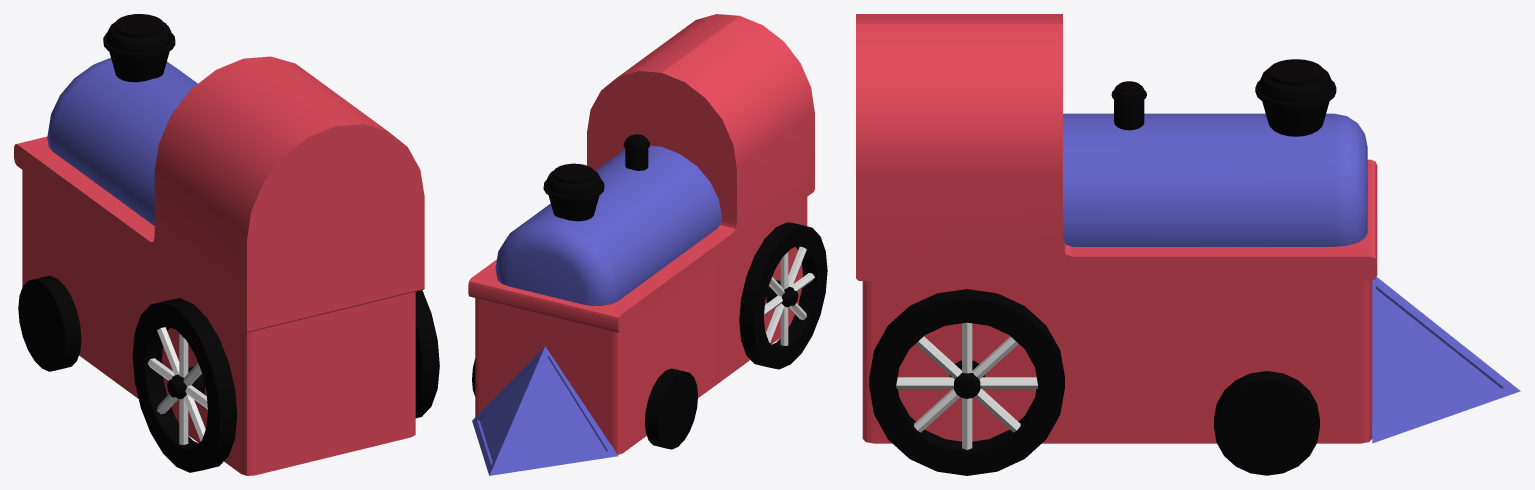
Rendered from train.fbx.
The picture shows the model from 3 angles, left to right: view 1: azimuth 30°, elevation 25°; view 2: azimuth 150°, elevation 25°; view 3: azimuth 270°, elevation 25°; orthographic projection. The views are drawn at different scales.
Parts seen in each view (by area): view 1: polySurface16, polySurface14, polySurface13, polySurface2, polySurface1, polySurface12, polySurface17, polySurface4, polySurface5; view 2: polySurface16, polySurface14, polySurface13, polySurface29, polySurface2, polySurface1, polySurface12, polySurface15, polySurface4; view 3: polySurface16, polySurface14, polySurface13, polySurface17, polySurface29, polySurface30, polySurface12, polySurface15, polySurface21, polySurface25, polySurface19.
Part boxes in pixels (bbox=[...]): polySurface16: bbox=[14, 56, 424, 332]; polySurface14: bbox=[22, 170, 415, 475]; polySurface13: bbox=[47, 58, 197, 225]; polySurface2: bbox=[132, 298, 237, 472]; polySurface1: bbox=[18, 275, 81, 371]; polySurface12: bbox=[103, 14, 175, 82]; polySurface17: bbox=[415, 290, 439, 418]; polySurface4: bbox=[167, 366, 204, 398]; polySurface5: bbox=[157, 327, 179, 375]; polySurface16: bbox=[468, 14, 814, 332]; polySurface14: bbox=[475, 197, 807, 454]; polySurface13: bbox=[495, 145, 721, 305]; polySurface29: bbox=[472, 346, 618, 475]; polySurface2: bbox=[739, 222, 827, 369]; polySurface1: bbox=[645, 368, 697, 449]; polySurface12: bbox=[543, 163, 604, 221]; polySurface15: bbox=[623, 134, 649, 170]; polySurface4: bbox=[766, 280, 798, 307]; polySurface16: bbox=[856, 14, 1377, 280]; polySurface14: bbox=[862, 280, 1372, 443]; polySurface13: bbox=[1063, 113, 1367, 246]; polySurface17: bbox=[869, 289, 1064, 475]; polySurface29: bbox=[1372, 277, 1520, 443]; polySurface30: bbox=[1214, 371, 1319, 475]; polySurface12: bbox=[1255, 59, 1336, 136]; polySurface15: bbox=[1111, 81, 1146, 130]; polySurface21: bbox=[979, 377, 1038, 388]; polySurface25: bbox=[896, 377, 954, 388]; polySurface19: bbox=[949, 360, 984, 398].
Bounding box in the file's own units: 6.76 × 9.85 × 15.14.
